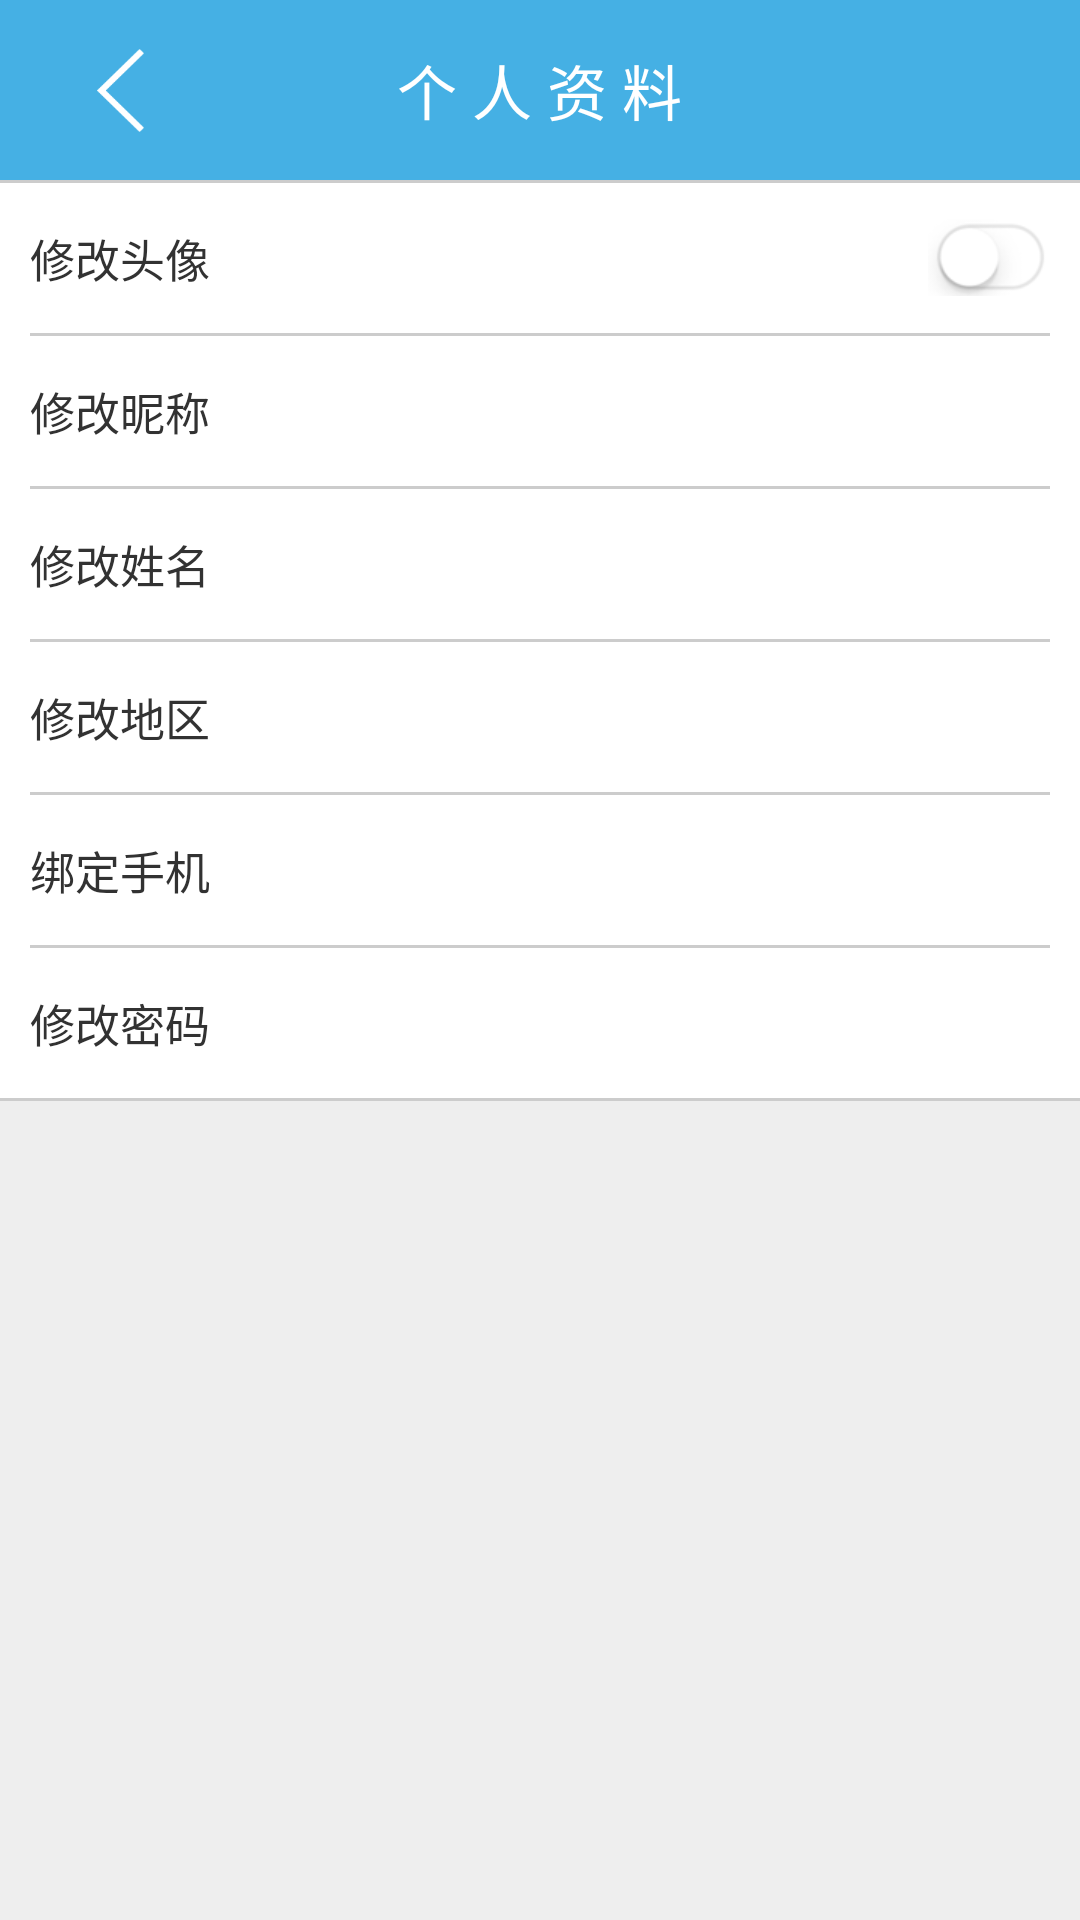

Named icons in this screenshot (1080px×1920px) and their centers, (x=x, y=y):
back: (x=120, y=90)
slide off: (x=989, y=259)
